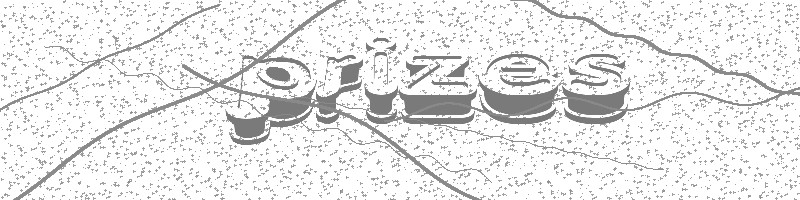e: (476, 50, 559, 124)
i: (363, 34, 398, 126)
p: (223, 50, 314, 149)
r: (316, 52, 362, 125)
s: (559, 47, 631, 125)
z: (399, 52, 478, 126)
